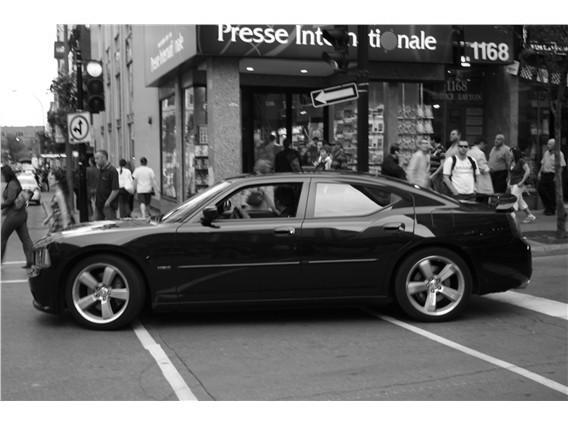car: (27, 172, 536, 335)
